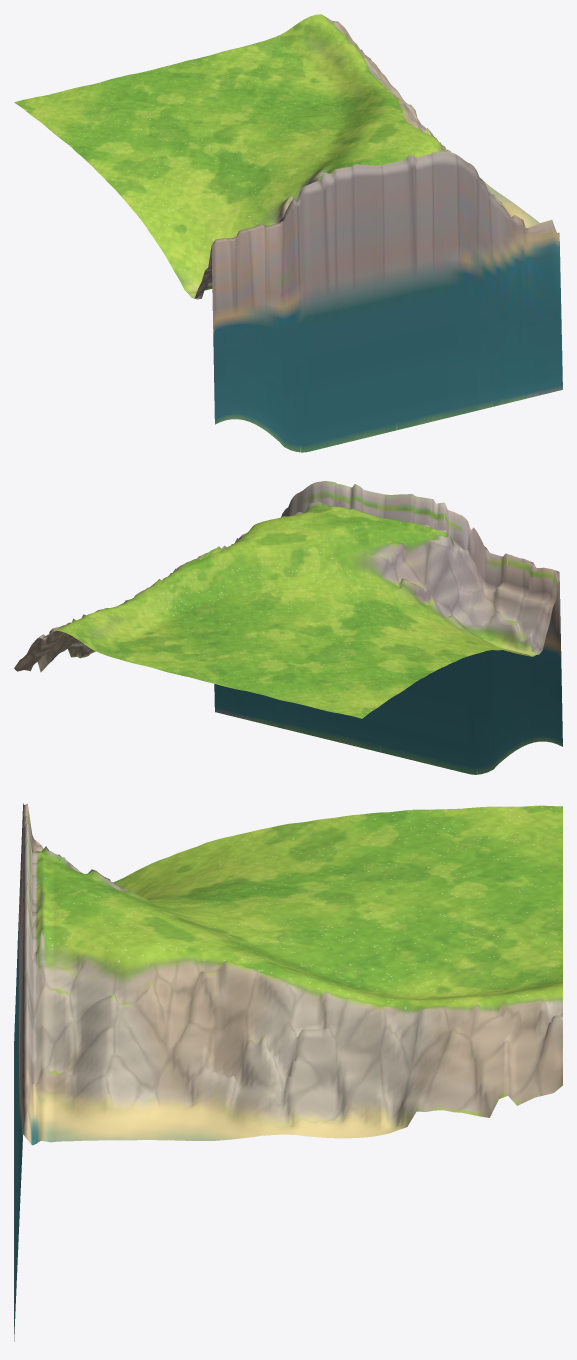
3 renders of one model, top to bottom at view 1: azimuth 30°, elevation 25°; view 2: azimuth 150°, elevation 25°; view 3: azimuth 270°, elevation 25°, orthographic. The views are drawn at different scales.
Visible parts, largest first — view 1: t128_000; view 2: t128_000; view 3: t128_000.
Part boxes in pixels (x1,y1,x2,y2): t128_000: (14,14,562,452); t128_000: (14,481,562,774); t128_000: (14,803,562,1341).
Size of the model in its own units: 64 by 47.65 by 64.
Materials: 1 (1 with a texture image).
